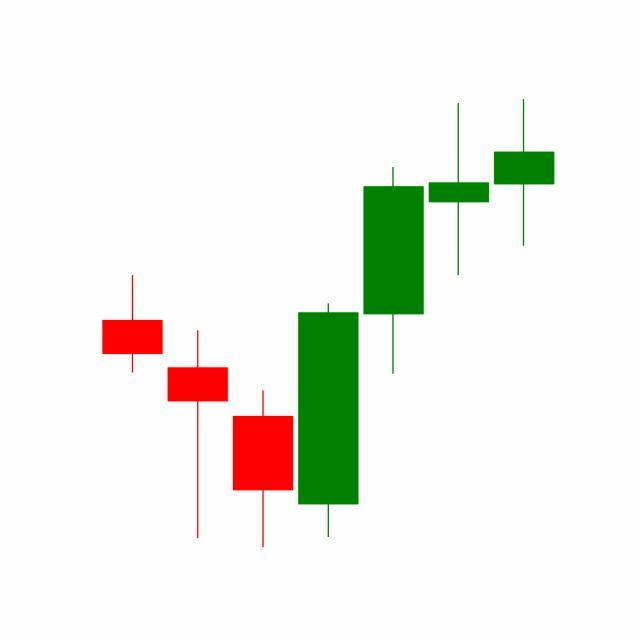Advance Block: (295, 99, 492, 542)
